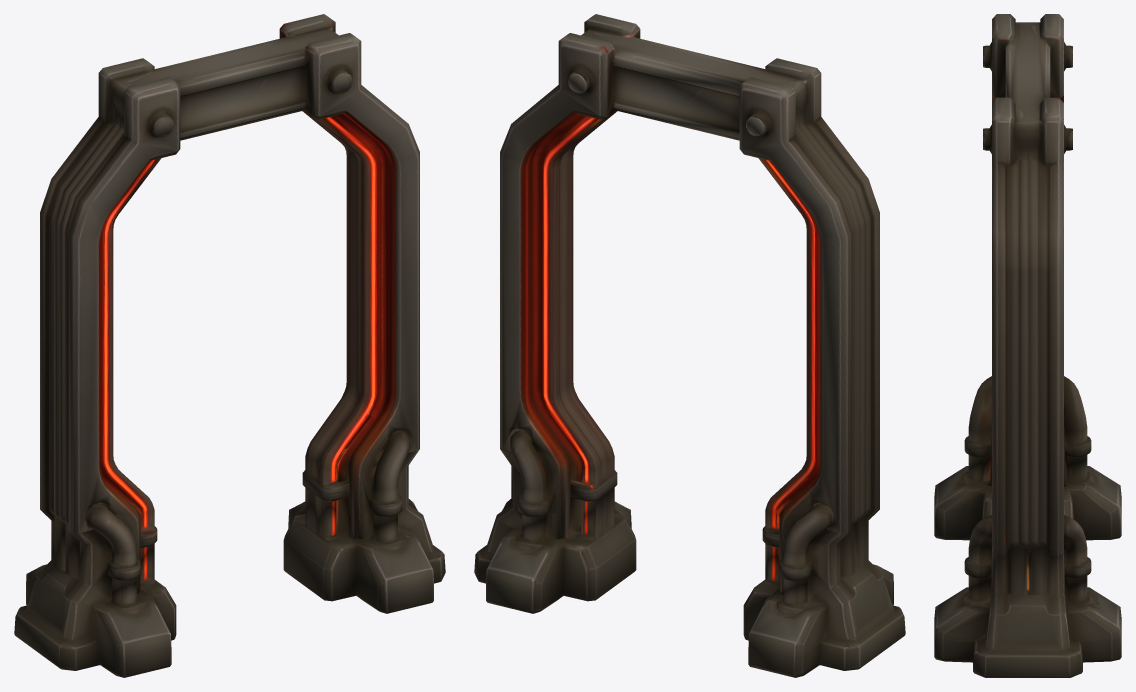
Rendered from VAL_WARPGATE_OS_MML_FINAL.glb.
3 renders of one model, left to right at view 1: azimuth 30°, elevation 25°; view 2: azimuth 150°, elevation 25°; view 3: azimuth 270°, elevation 25°, orthographic. The views are drawn at different scales.
Visible parts, largest first — view 1: material; view 2: material; view 3: material.
Part boxes in pixels (x1=…): material: x1=14, y1=14, x2=445, y2=677; material: x1=474, y1=14, x2=905, y2=677; material: x1=934, y1=14, x2=1121, y2=677.
Size of the model in its own units: 2.27 by 3.1 by 1.
Materials: 1 (1 with a texture image).
